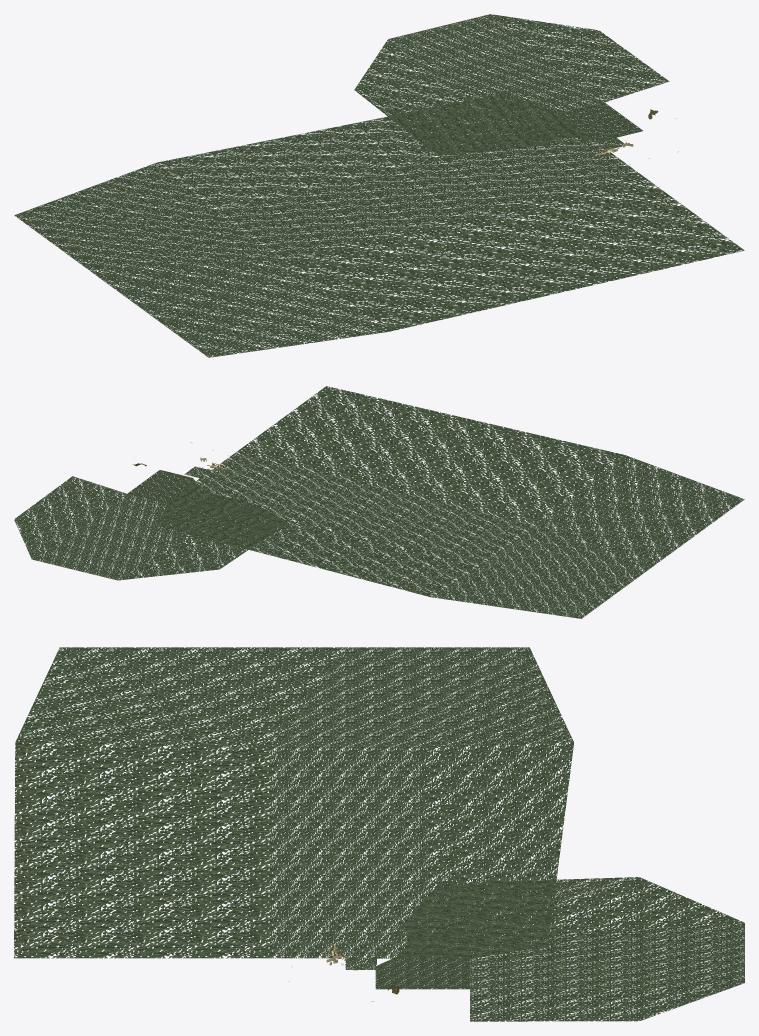
Rendered from track-B1_C1_V1_env.glb.
3 renders of one model, top to bottom at view 1: azimuth 30°, elevation 25°; view 2: azimuth 150°, elevation 25°; view 3: azimuth 270°, elevation 25°, orthographic. The views are drawn at different scales.
Parts seen in each view (by area): view 1: B1_C1_V1_env; view 2: B1_C1_V1_env; view 3: B1_C1_V1_env.
Boxes of the visible parts, left/top/right/bottom form: B1_C1_V1_env: left=14, top=14, right=744, bottom=357; B1_C1_V1_env: left=14, top=386, right=744, bottom=618; B1_C1_V1_env: left=14, top=647, right=744, bottom=1021.
Bounding box in the file's own units: 9000 × 147 × 7480.
31 materials, 31 textured.
